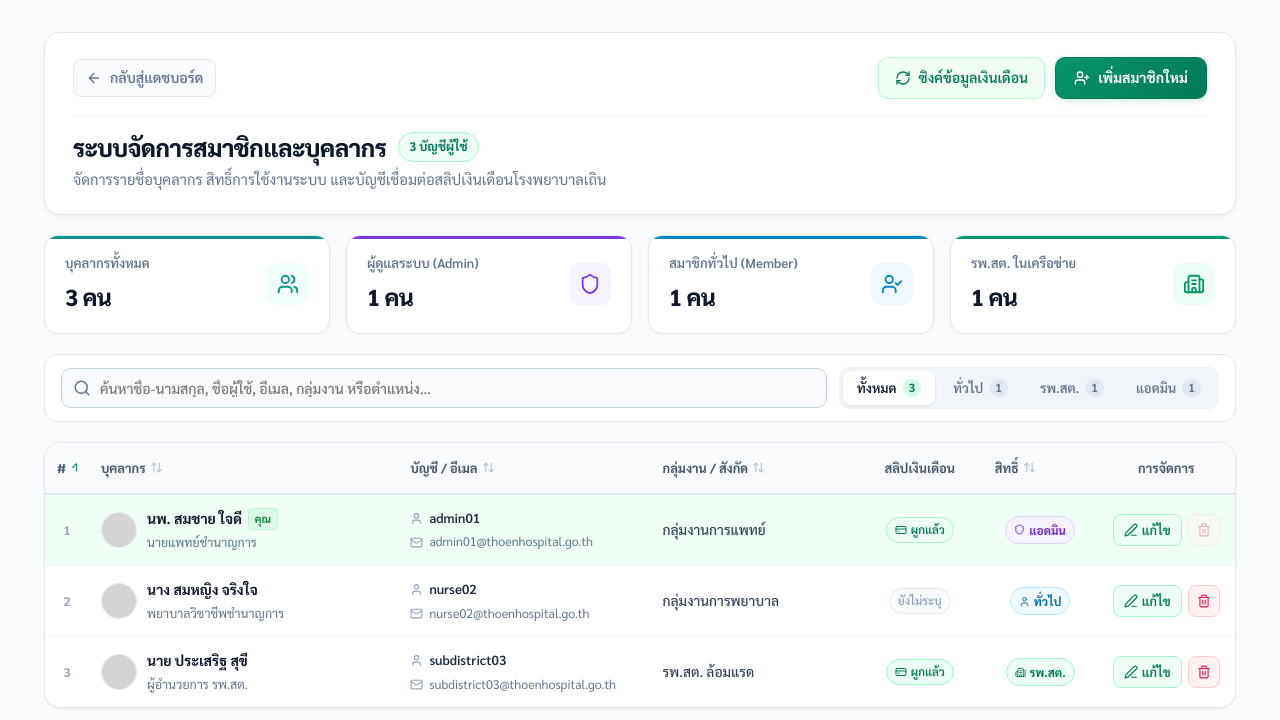
MembersAdminClient Component › opens edit modal with member data when clicking edit
Click the button titled "แก้ไขข้อมูลสมาชิก" in the row of "นาง สมหญิง จริงใจ": (1147, 601) [1113,585,1182,617]
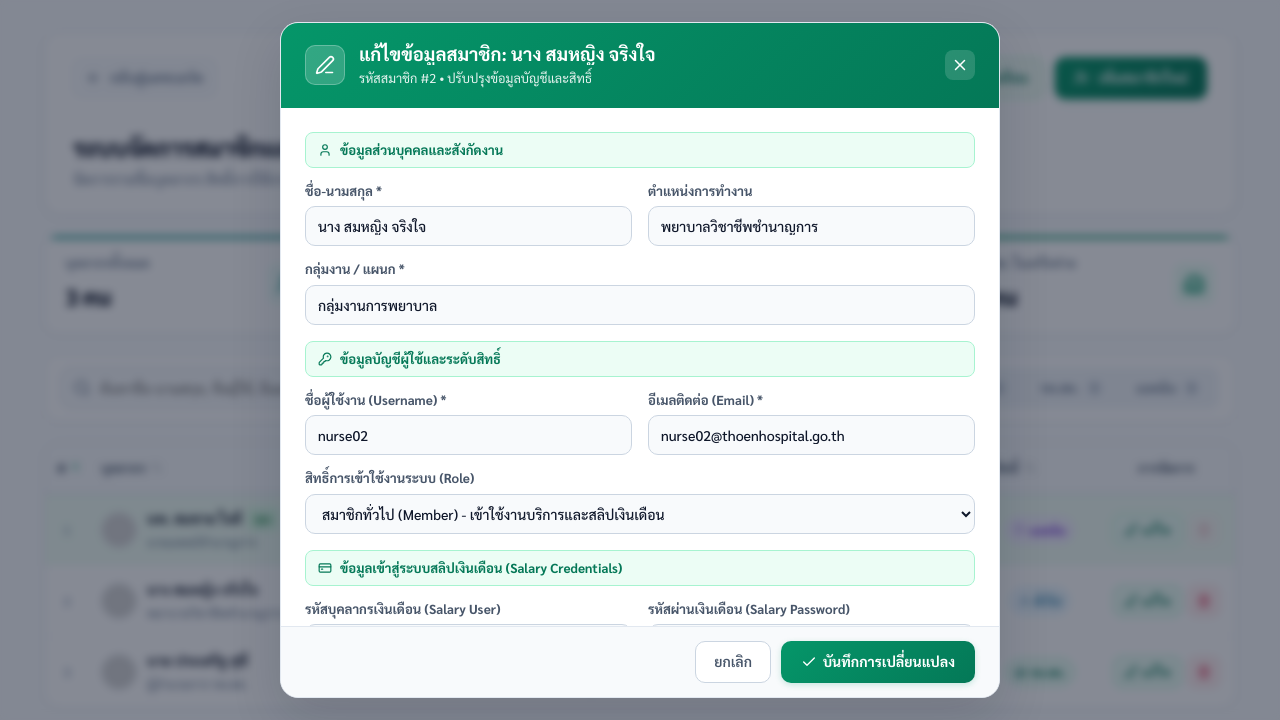
Result: the heading "แก้ไขข้อมูลสมาชิก: นาง สมหญิง จริงใจ" is shown at [359,41,656,65]
Result: the field showing "นาง สมหญิง จริงใจ" is shown at [305,206,632,246]
Result: the field showing "nurse02" is shown at [305,415,632,455]
